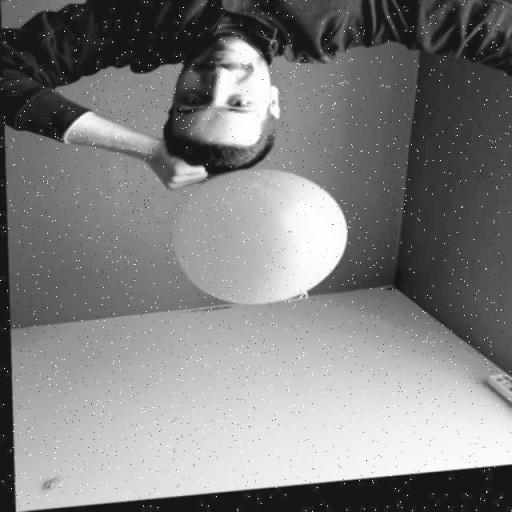balloon: (163, 168, 345, 319)
